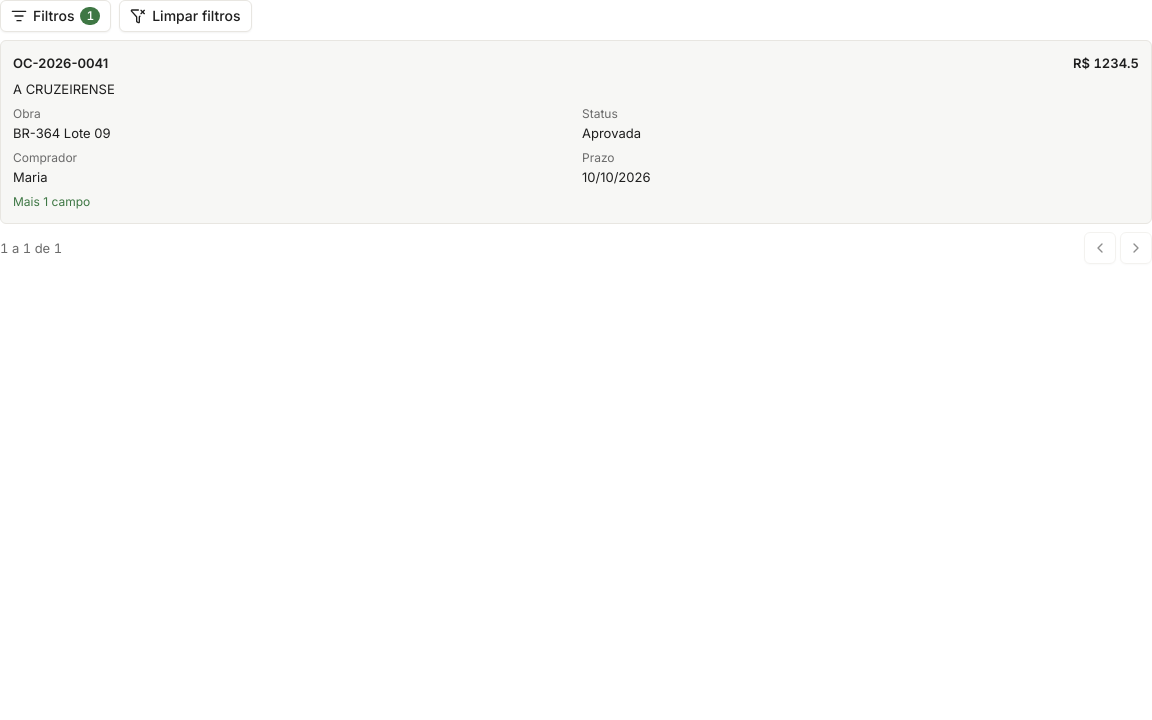
Test case: DataTable no celular › os filtros vão para uma gaveta com o selo de quantos estão ativos
Click the button "Filtros 1" at (56, 16), box [0, 0, 111, 32]
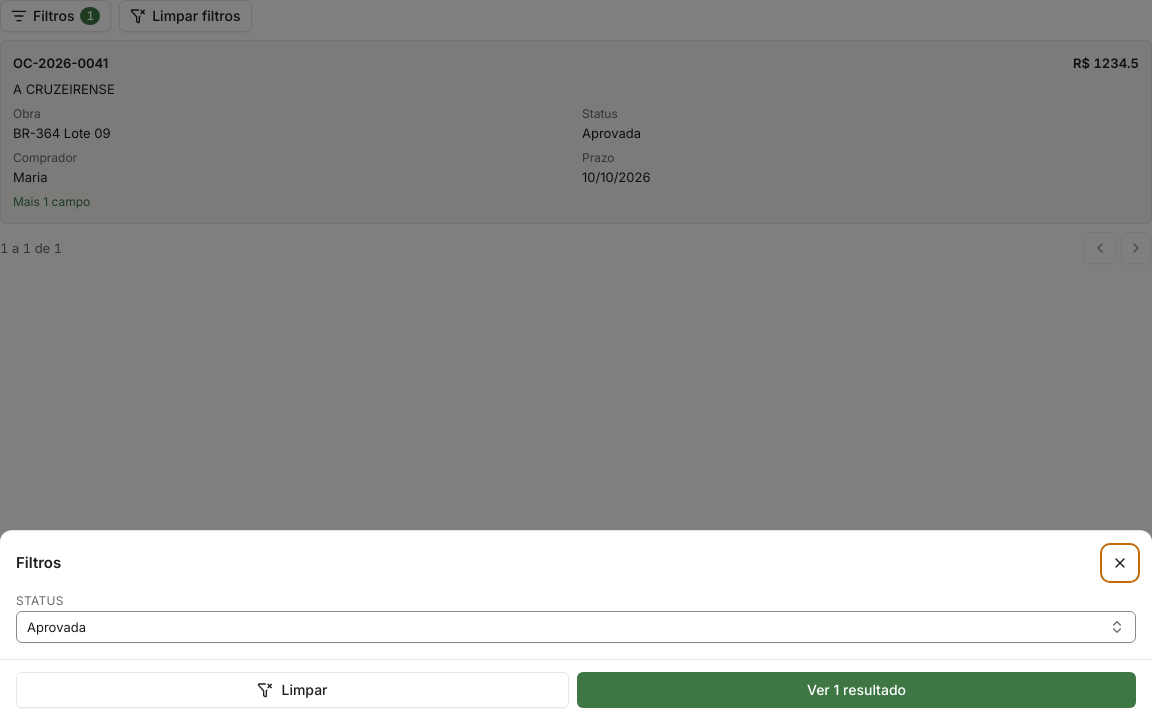
Check: the dialog "Filtros" is shown, box [0, 530, 1151, 719]
Check: the button "Ver 1 resultado" is shown, box [577, 672, 1136, 708]
